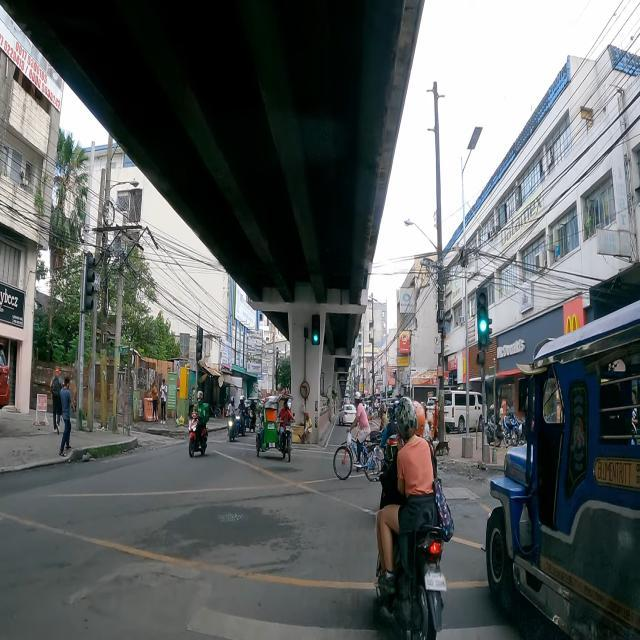bike: (334, 392, 384, 482)
car: (338, 404, 356, 426)
jeepney: (484, 300, 640, 640)
motorcycle: (376, 398, 452, 640), (380, 400, 400, 476), (189, 390, 209, 457), (484, 404, 506, 447), (504, 411, 520, 447), (226, 397, 238, 441), (236, 396, 246, 436)
tricycle: (256, 394, 294, 461), (246, 396, 258, 432)
